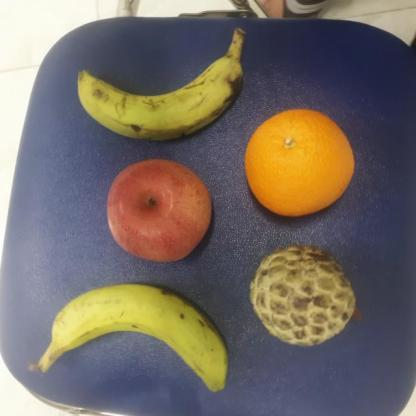annona: (247, 245, 357, 349)
apple: (102, 156, 212, 266)
banana: (41, 281, 230, 392), (75, 48, 246, 145)
orange: (241, 106, 358, 218)
